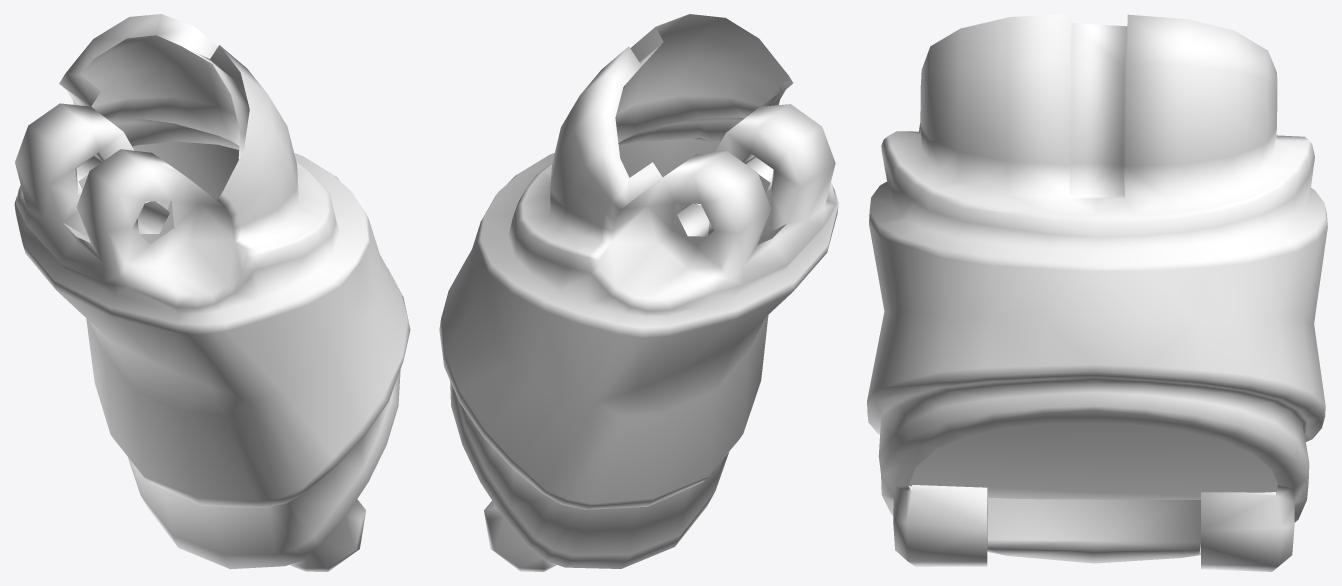
The model's file is RThumb1.dae.
3 views of the same model, side by side, from view 1: azimuth 30°, elevation 25°; view 2: azimuth 150°, elevation 25°; view 3: azimuth 270°, elevation 25° (orthographic). The views are drawn at different scales.
Parts seen in each view (by area): view 1: RThumb1; view 2: RThumb1; view 3: RThumb1.
Boxes of the visible parts, x1,y1,x2,y2 form: RThumb1: (14, 14, 410, 571); RThumb1: (439, 14, 838, 571); RThumb1: (867, 14, 1327, 571).
Size of the model in its own units: 0.136 by 0.1591 by 0.2132.
Materials: 1 (1 with a texture image).
